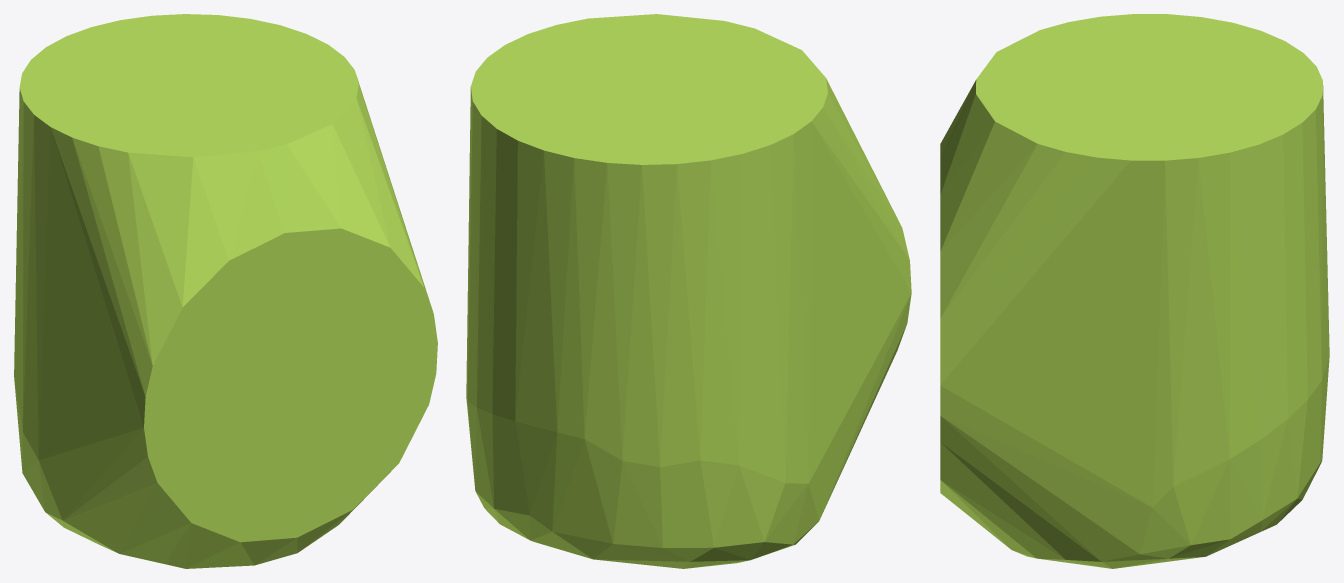
The model's file is ur3_link_2_coll_1.dae.
3 views of the same model, side by side, from view 1: azimuth 30°, elevation 25°; view 2: azimuth 150°, elevation 25°; view 3: azimuth 270°, elevation 25° (orthographic). The views are drawn at different scales.
Visible parts, largest first — view 1: Node_000002223FC9C060; view 2: Node_000002223FC9C060; view 3: Node_000002223FC9C060.
Part boxes in pixels (left/top/right/bottom): Node_000002223FC9C060: left=14, top=14, right=437, bottom=568; Node_000002223FC9C060: left=466, top=14, right=911, bottom=568; Node_000002223FC9C060: left=940, top=14, right=1329, bottom=568.
Bounding box in the file's own units: 0.092 × 0.122 × 0.1005.
